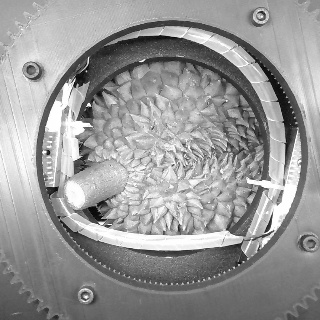base: (90, 153, 137, 195)
end: (65, 180, 86, 208)
